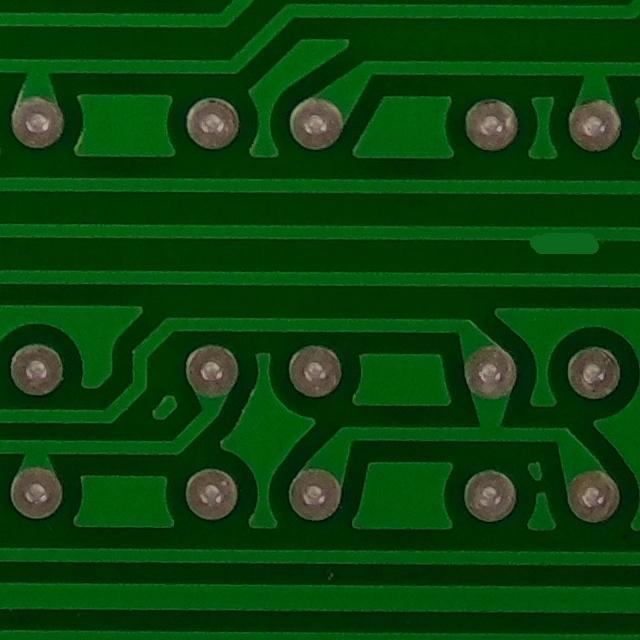spur: (504, 212, 620, 272)
